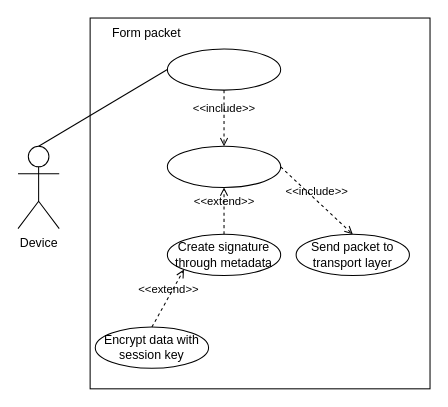
Some shapes in this 448 by 407 pixel diagram are drawn without their labels. The box of each missing label's shape, as (x1, y1, x2, y2) in pixels:
Fill out packet header: (166, 145, 281, 187)
Recieve data/request: (166, 48, 281, 90)
